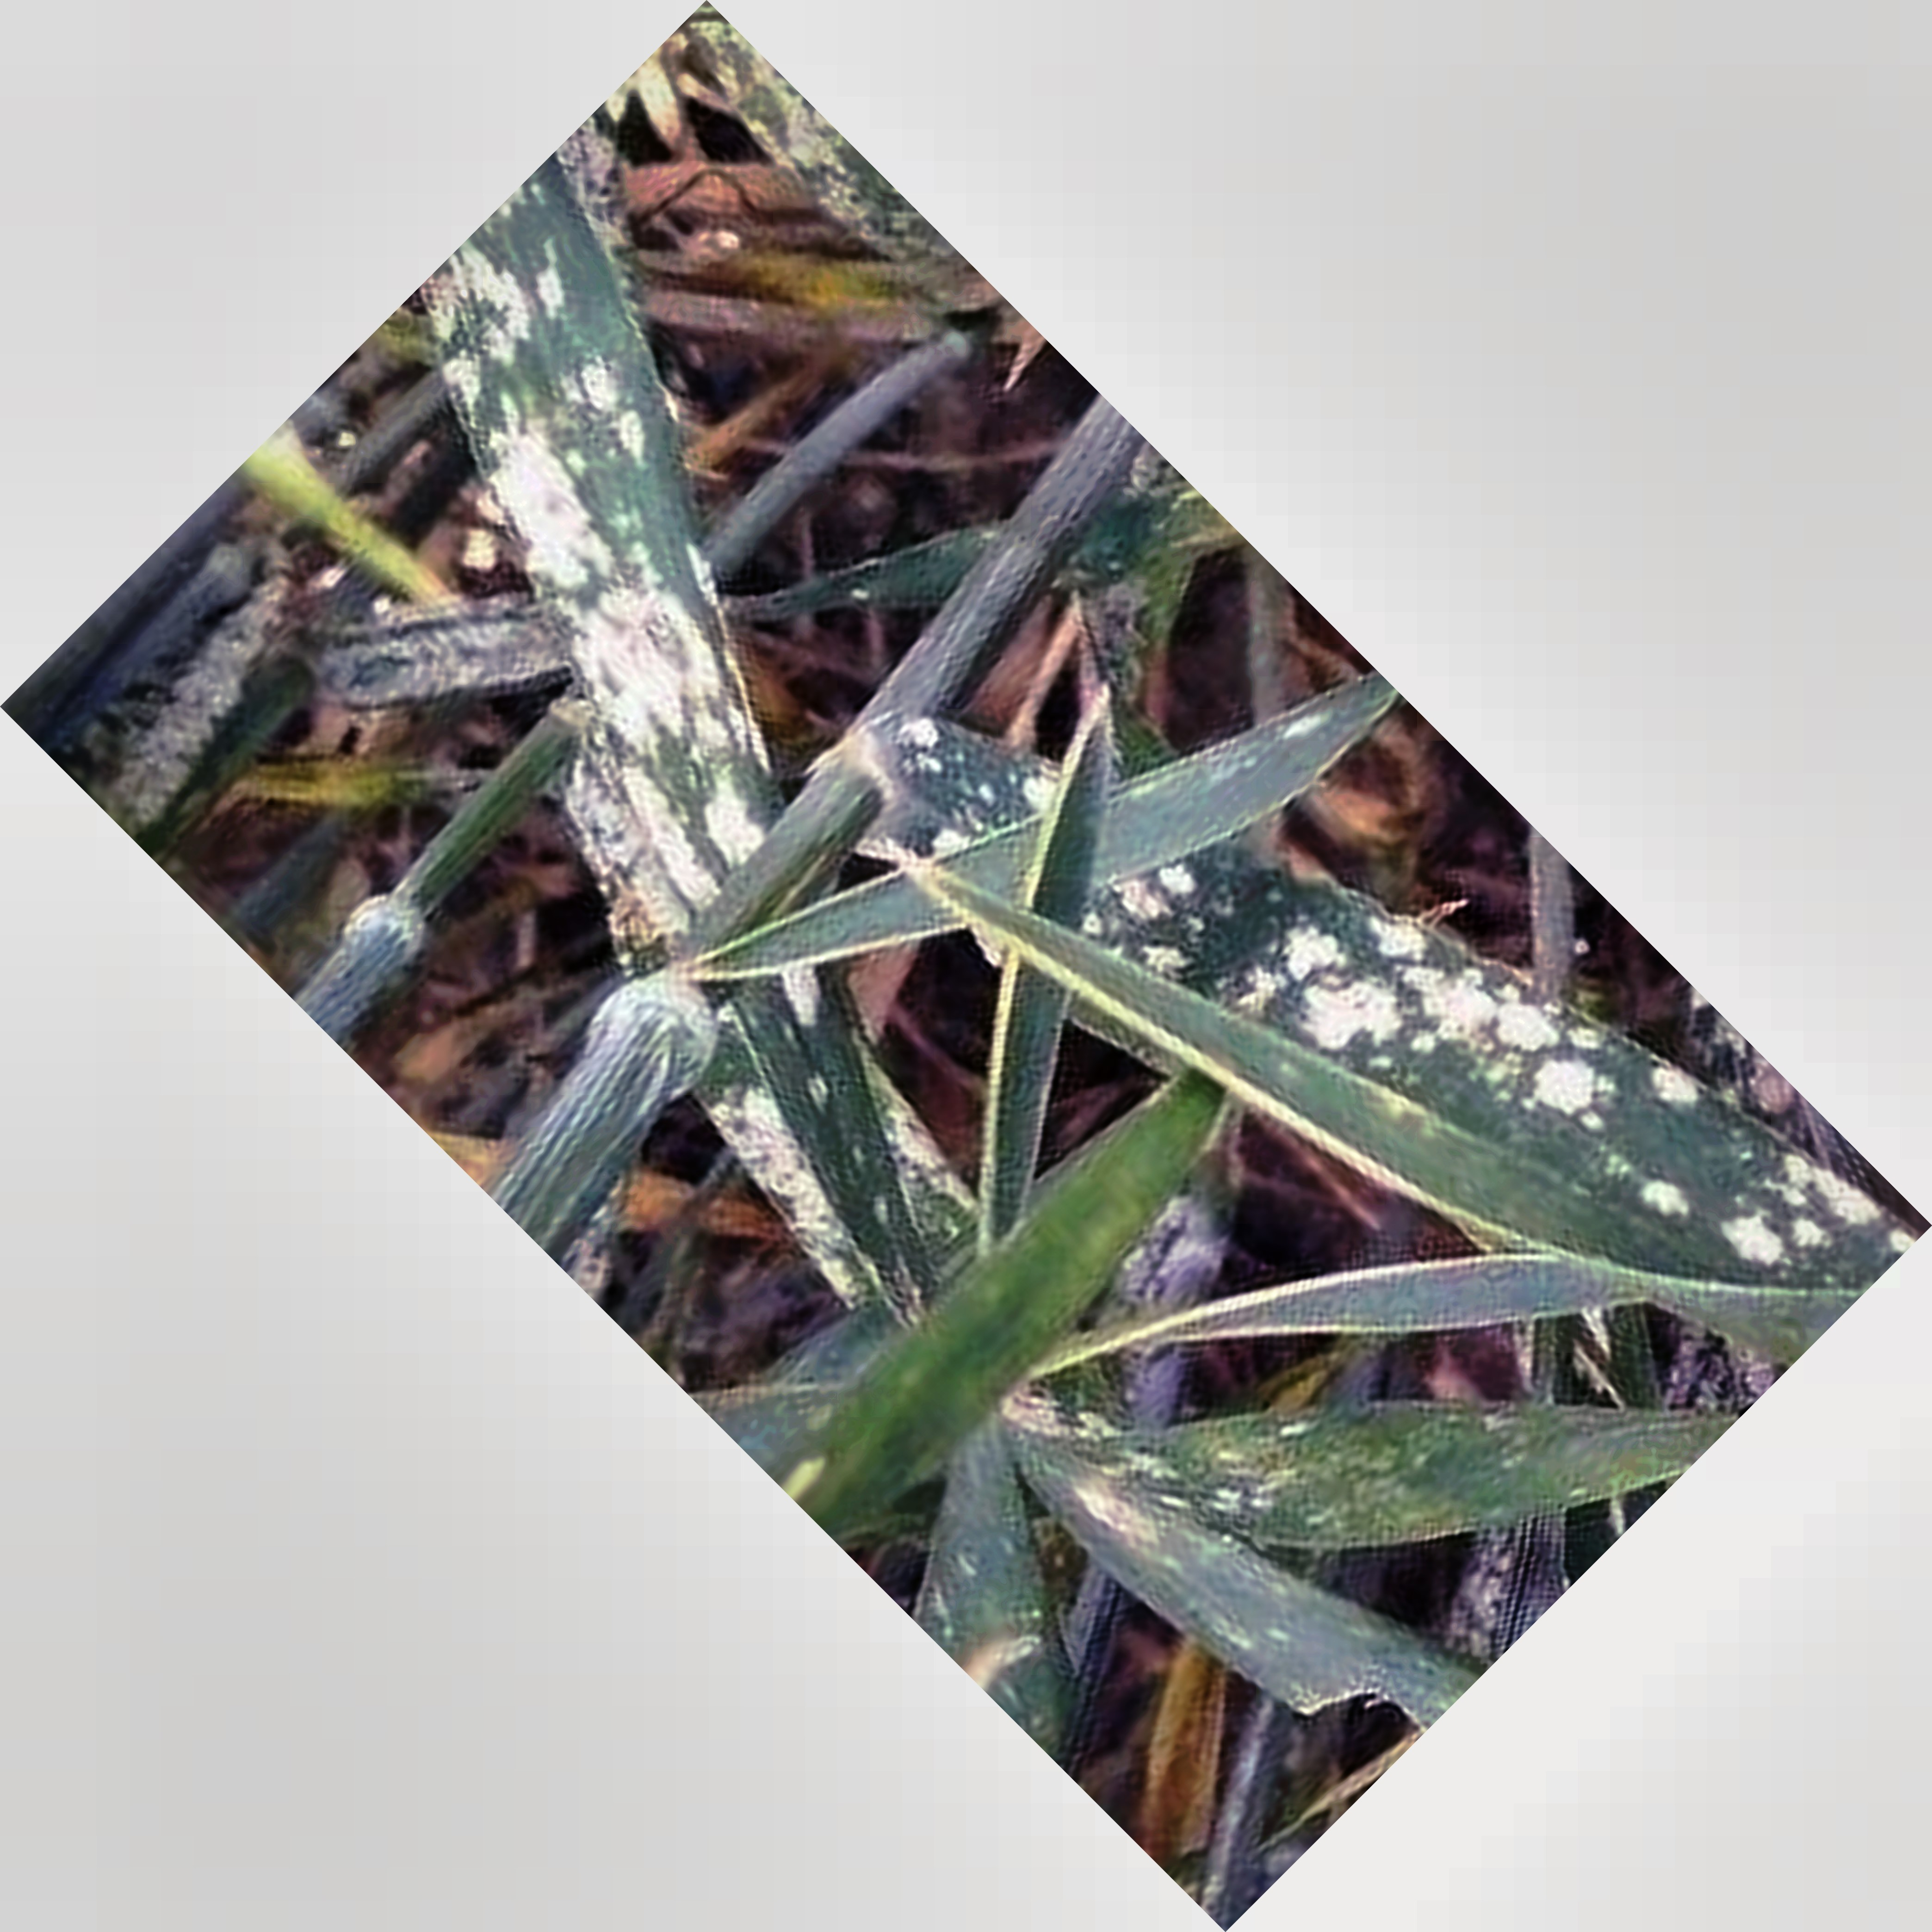Powdery Mildew: (1108, 851, 1808, 1277), (460, 341, 796, 833)
